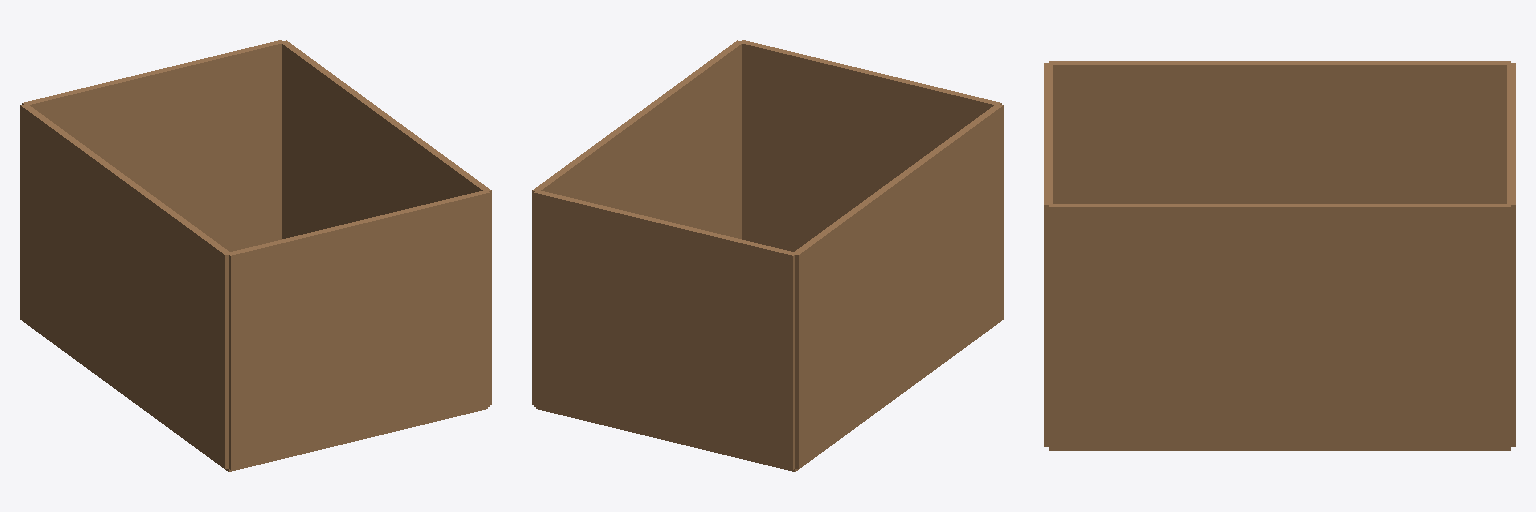
robot.urdf — open_top_box:
<?xml version="1.0" ?>
<robot name="open_top_box">
  <!--
  This model is meant to be a container in which other objects can be dumped.
  Origin:
    (0, 0, 0) at the center bottom of the bin.
  -->
  <material name="Box_color">
    <color rgba="0.678 0.529 0.384 1.0"/>
  </material>

  <link name="base">
    <!-- This inertia value is bogus since its inconsequential -->
    <inertial>
      <origin xyz="0 0 0" rpy="0 0 0" />
      <mass value="0.122" />
      <inertia ixx="0.000360" ixy="0" ixz="0" iyy="0.0000615" iyz="0"
          izz="0.00036" />
    </inertial>

    <!-- Front -->
    <visual>
      <origin rpy="0 0 0" xyz="0.19 0 0.15"/>
      <geometry>
        <box size="0.01 0.52 0.3"/>
      </geometry>
      <material name="Box_color"/>
    </visual>
    <collision>
      <origin rpy="0 0 0" xyz="0.19 0 0.15"/>
      <geometry>
        <box size="0.01 0.52 0.3"/>
      </geometry>
    </collision>

    <!-- Back -->
    <visual>
      <origin rpy="0 0 0" xyz="-0.19 0 0.15"/>
      <geometry>
        <box size="0.01 0.52 0.3"/>
      </geometry>
      <material name="Box_color"/>
    </visual>
    <collision>
      <origin rpy="0 0 0" xyz="-0.19 0 0.15"/>
      <geometry>
        <box size="0.01 0.52 0.3"/>
      </geometry>
    </collision>

    <!-- Left -->
    <visual>
      <origin rpy="0 0 0" xyz="0 0.26 0.15"/>
      <geometry>
        <box size="0.38 0.01 0.3"/>
      </geometry>
      <material name="Box_color"/>
    </visual>
    <collision>
      <origin rpy="0 0 0" xyz="0 0.26 0.15"/>
      <geometry>
        <box size="0.38 0.01 0.3"/>
      </geometry>
    </collision>

    <!-- Right -->
    <visual>
      <origin rpy="0 0 0" xyz="0 -0.26 0.15"/>
      <geometry>
        <box size="0.38 0.01 0.3"/>
      </geometry>
      <material name="Box_color"/>
    </visual>
    <collision>
      <origin rpy="0 0 0" xyz="0 -0.26 0.15"/>
      <geometry>
        <box size="0.38 0.01 0.3"/>
      </geometry>
    </collision>

    <!-- bottom -->
    <visual>
      <origin rpy="0 0 0" xyz="0 0 0"/>
      <geometry>
        <box size="0.38 0.52 0.01"/>
      </geometry>
      <material name="Box_color"/>
    </visual>
    <collision>
      <origin rpy="0 0 0" xyz="0 0.0 -0.005"/>
      <geometry>
        <box size="0.38 0.52 0.01"/>
      </geometry>
    </collision>

  </link>
</robot>

--- Facts derived from the render (not from the file) ---
Views: 3 orthographic renders of the robot side by side, from view 1: azimuth 30°, elevation 25°; view 2: azimuth 150°, elevation 25°; view 3: azimuth 270°, elevation 25°.
Model open_top_box with 1 links and 0 joints (none), rooted at base, posed every joint at zero.
Links seen in each view (by area): view 1: base; view 2: base; view 3: base.
Boxes of the visible links, left/top/right/bottom form: base: left=20, top=40, right=491, bottom=471; base: left=532, top=40, right=1003, bottom=471; base: left=1044, top=61, right=1515, bottom=450.
Size in the robot's own frame: 0.39 by 0.53 by 0.305 metres.
Geometry: primitives only (box / cylinder / sphere), no mesh files.